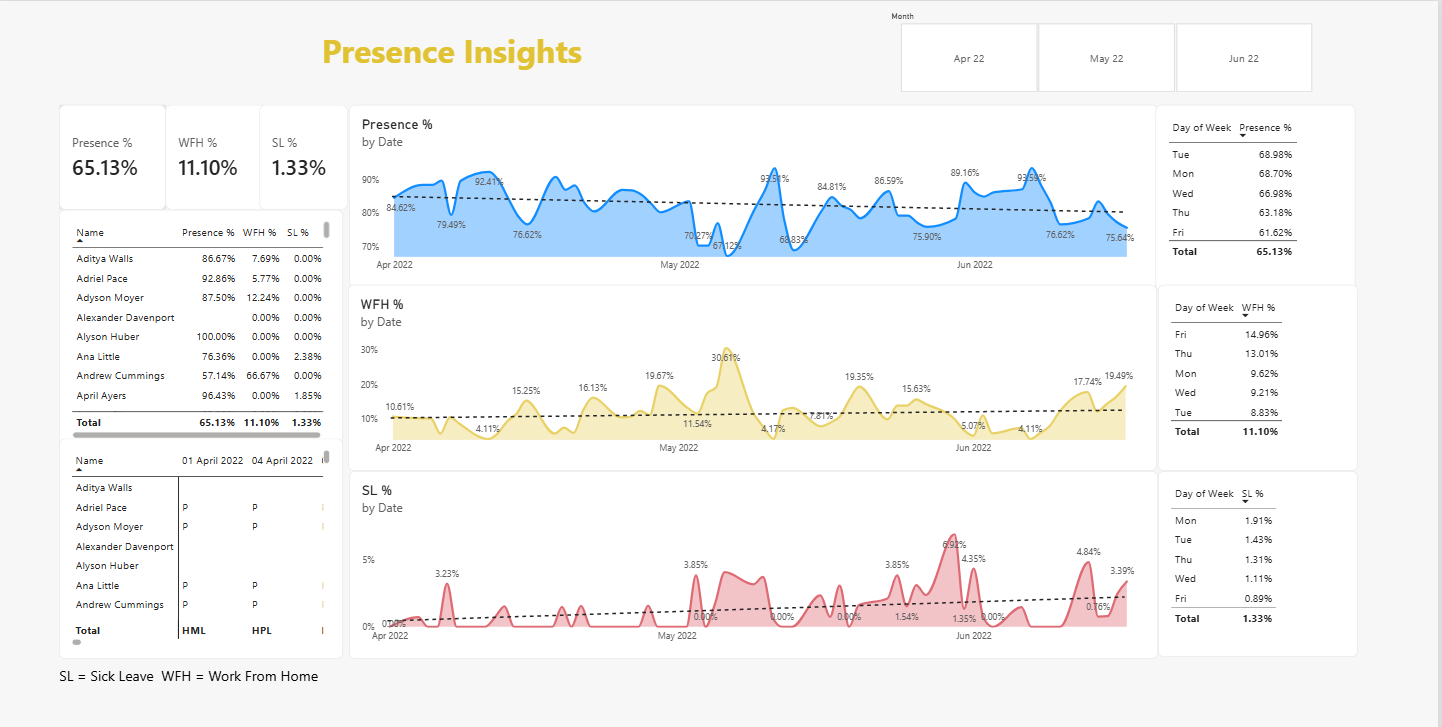

The dashboard page shown, as its layout file describes it:
{"tool":"powerbi","page":{"name":"Page 1","canvas":[1920,1080],"ordinal":0},"visuals":[{"type":"cardVisual","fields":{"Data":["Measure Table.Presence %"]},"box":[82,138,142,140],"z":0},{"type":"slicer","fields":{"Values":["Final Data.Month"]},"box":[1184,14,588,110],"z":1000},{"type":"cardVisual","fields":{"Data":["Measure Table.WFH %"]},"box":[224,138,138,140],"z":2000},{"type":"cardVisual","fields":{"Data":["Measure Table.SL %"]},"box":[348,138,118,140],"z":3000},{"type":"tableEx","fields":{"Values":["Final Data.Name","Measure Table.Presence %","Measure Table.WFH %","Measure Table.SL %"]},"box":[81.7,278.3,378,322],"z":4000},{"type":"textbox","box":[53.3,0,1103.3,106.7],"z":5000},{"type":"pivotTable","fields":{"Rows":["Final Data.Name"],"Values":["Min(Final Data.Value)"],"Columns":["Final Data.Date"]},"box":[81.7,583.3,378.3,293.3],"z":5001},{"type":"areaChart","fields":{"Y":["Measure Table.Presence %"],"Category":["Final Data.Date"]},"box":[468.3,138.3,1078,244],"z":5002},{"type":"areaChart","fields":{"Y":["Measure Table.WFH %"],"Category":["Final Data.Date"]},"box":[466.7,378.3,1078,248],"z":5003},{"type":"areaChart","fields":{"Y":["Measure Table.SL %"],"Category":["Final Data.Date"]},"box":[468.3,626.7,1078,250],"z":5004},{"type":"tableEx","fields":{"Values":["Final Data.Day of Week","Measure Table.Presence %"]},"box":[1544,138,266,248],"z":5005},{"type":"tableEx","fields":{"Values":["Final Data.Day of Week","Measure Table.WFH %"]},"box":[1546,378,266,248],"z":5006},{"type":"tableEx","fields":{"Values":["Final Data.Day of Week","Measure Table.SL %"]},"box":[1546,626,266,248],"z":5007},{"type":"textbox","box":[81.7,886.7,378.3,53.3],"z":5008}]}

Visuals, with their boxes on the page's 1920x1080 design canvas (x1, y1, x2, y2). These are canvas units, not pixel positions in the 1442x727 screenshot, which may show the page scaled, cropped or inside an application window:
cardVisual - Measure Table.Presence %: region(82, 138, 224, 278)
slicer - Final Data.Month: region(1184, 14, 1772, 124)
cardVisual - Measure Table.WFH %: region(224, 138, 362, 278)
cardVisual - Measure Table.SL %: region(348, 138, 466, 278)
tableEx - Final Data.Name x Measure Table.Presence %: region(82, 278, 460, 600)
textbox: region(53, 0, 1157, 107)
pivotTable - Final Data.Name x Min(Final Data.Value): region(82, 583, 460, 877)
areaChart - Measure Table.Presence % x Final Data.Date: region(468, 138, 1546, 382)
areaChart - Measure Table.WFH % x Final Data.Date: region(467, 378, 1545, 626)
areaChart - Measure Table.SL % x Final Data.Date: region(468, 627, 1546, 877)
tableEx - Final Data.Day of Week x Measure Table.Presence %: region(1544, 138, 1810, 386)
tableEx - Final Data.Day of Week x Measure Table.WFH %: region(1546, 378, 1812, 626)
tableEx - Final Data.Day of Week x Measure Table.SL %: region(1546, 626, 1812, 874)
textbox: region(82, 887, 460, 940)
